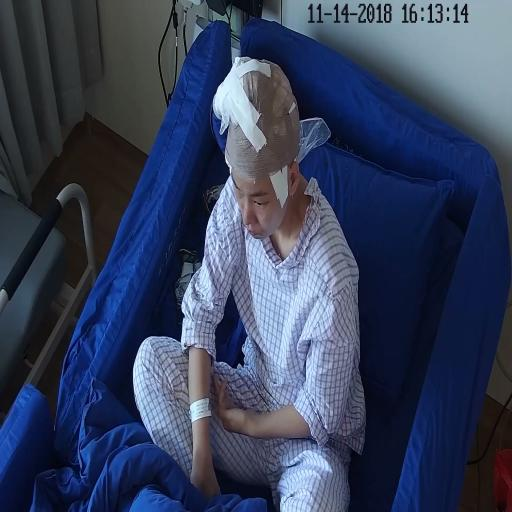Seizure: (222, 113, 289, 247)
